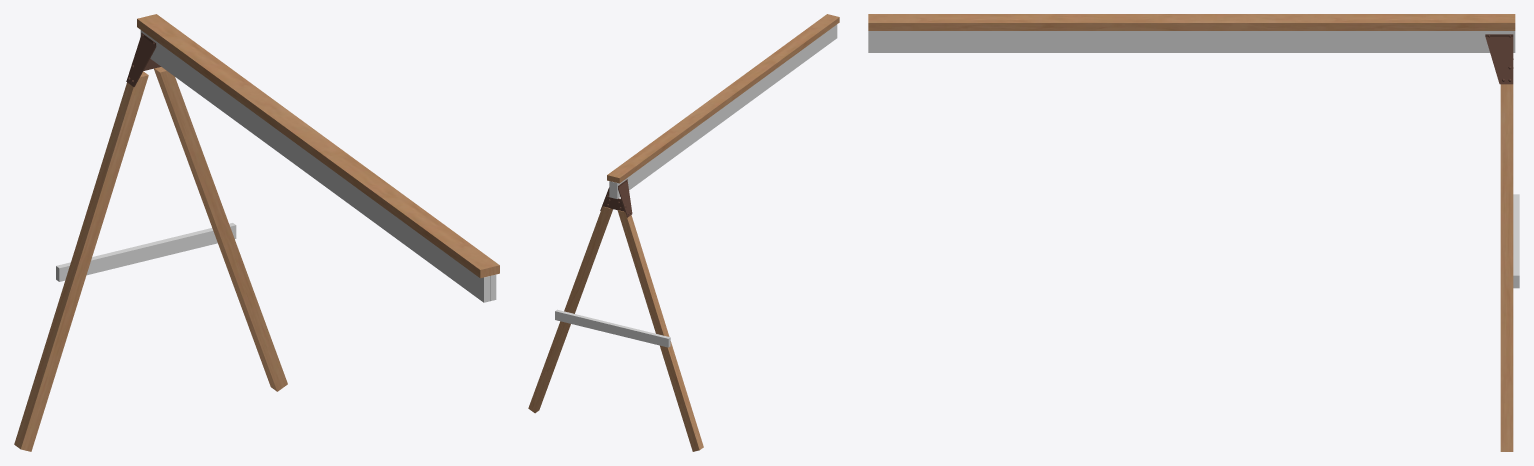
3 renders of one model, left to right at view 1: azimuth 30°, elevation 25°; view 2: azimuth 150°, elevation 25°; view 3: azimuth 270°, elevation 25°, orthographic. The views are drawn at different scales.
Parts seen in each view (by area): view 1: Plane001, Plane001_1,_colorize_, Plane001_2; view 2: Plane001, Plane001_1,_colorize_, Plane001_2; view 3: Plane001, Plane001_1,_colorize_, Plane001_2.
Part boxes in pixels (x1=…): Plane001: x1=14, y1=14, x2=499, y2=451; Plane001_1,_colorize_: x1=56, y1=30, x2=496, y2=302; Plane001_2: x1=126, y1=32, x2=160, y2=86; Plane001: x1=528, y1=14, x2=839, y2=451; Plane001_1,_colorize_: x1=555, y1=24, x2=837, y2=347; Plane001_2: x1=600, y1=179, x2=632, y2=217; Plane001: x1=868, y1=14, x2=1515, y2=451; Plane001_1,_colorize_: x1=868, y1=31, x2=1519, y2=288; Plane001_2: x1=1485, y1=34, x2=1513, y2=84.
Bounding box in the file's own units: 1.94 × 2.77 × 4.33.
Materials: 3 (1 with a texture image).
